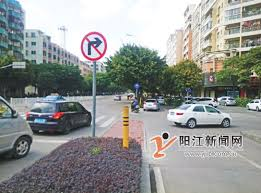No_right_turn: (79, 31, 106, 61)
